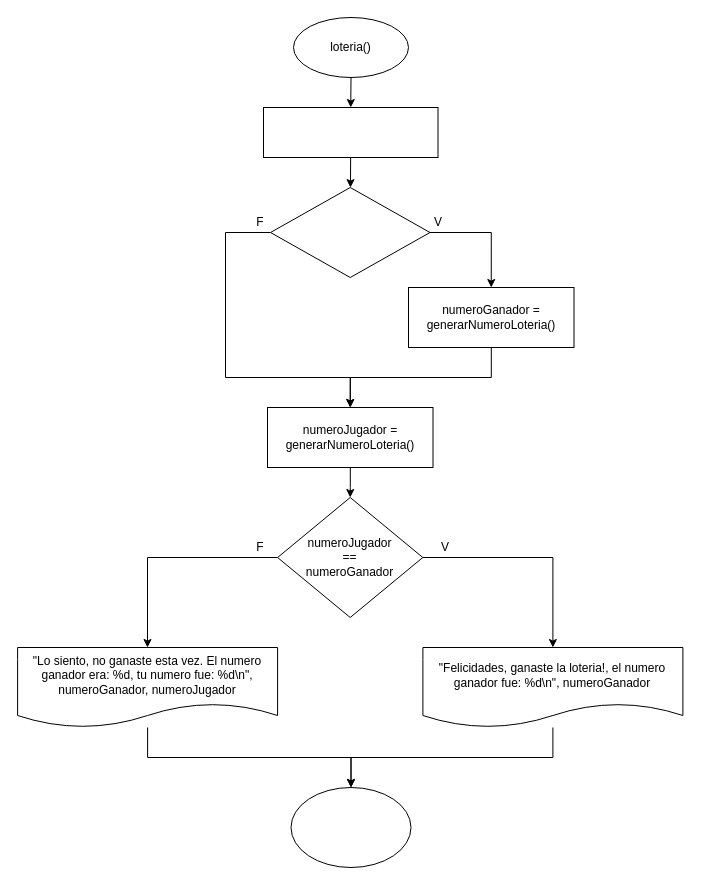
Image size: 701x885. Some labels were removed from this diagram. Each missing label, with the centre of its shape:
numeroGanador == 0: (350,232)
return: (350,827)
static int numeroGanador = 0: (350,132)
